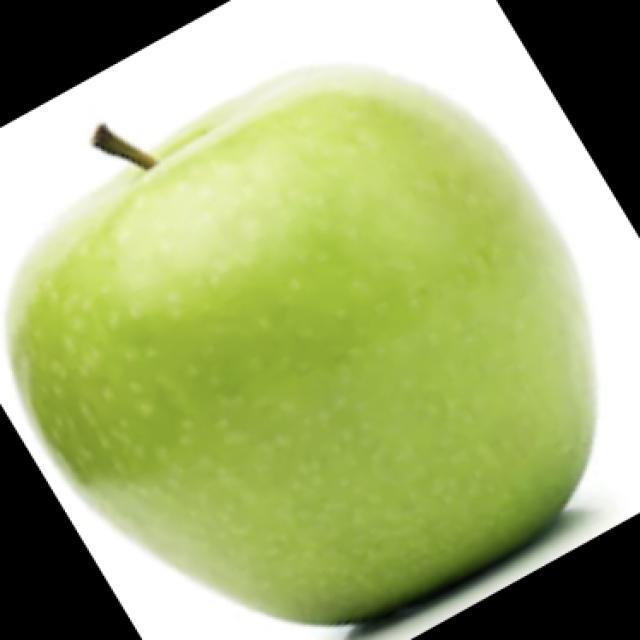Fresh Apple: (13, 59, 595, 618)
